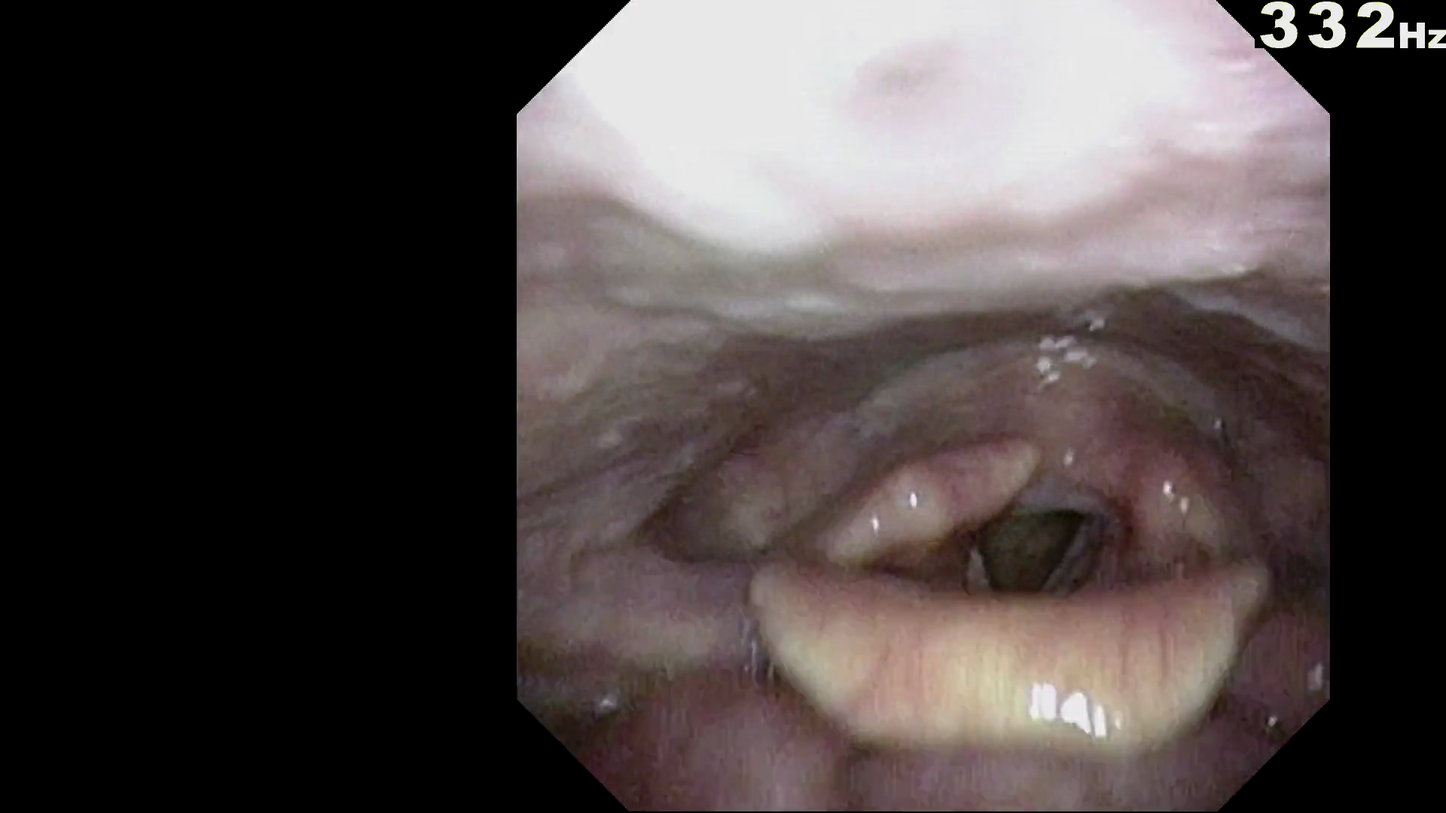epiglottis: (679, 567, 1221, 706)
trachea: (945, 496, 1100, 597)
